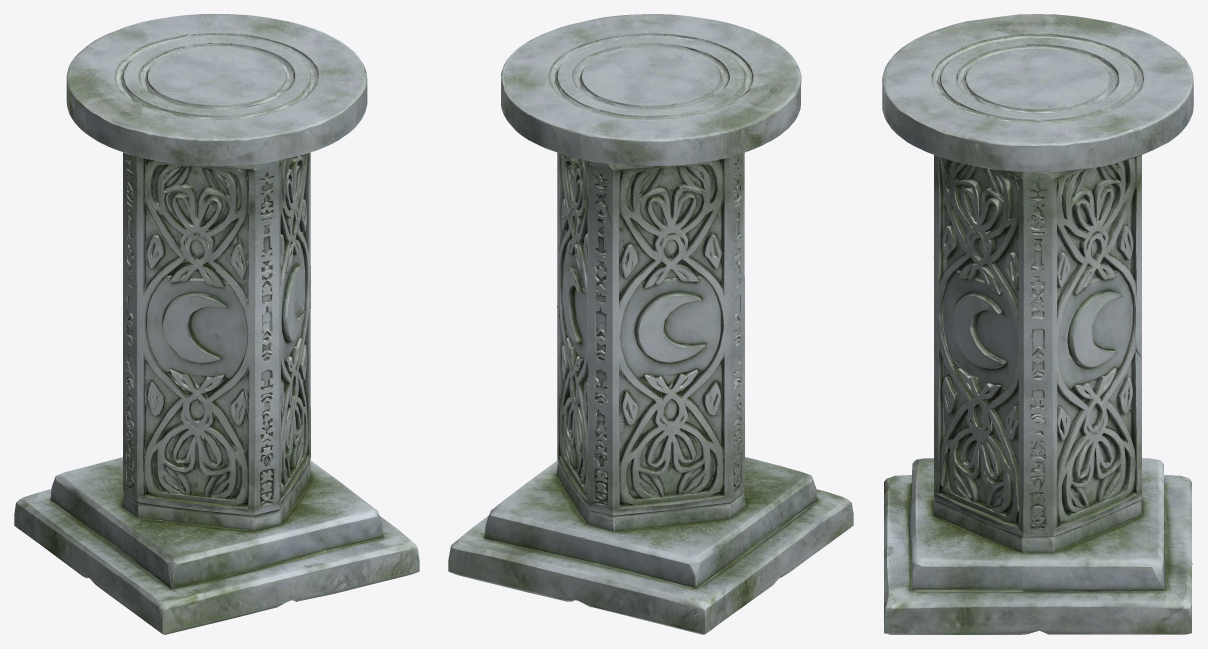
The model's file is hf_pedestal.glb.
3 views of the same model, side by side, from view 1: azimuth 30°, elevation 25°; view 2: azimuth 150°, elevation 25°; view 3: azimuth 270°, elevation 25° (orthographic). The views are drawn at different scales.
Size of the model in its own units: 1.09 by 1.9 by 1.08.
1 material, 1 textured.
